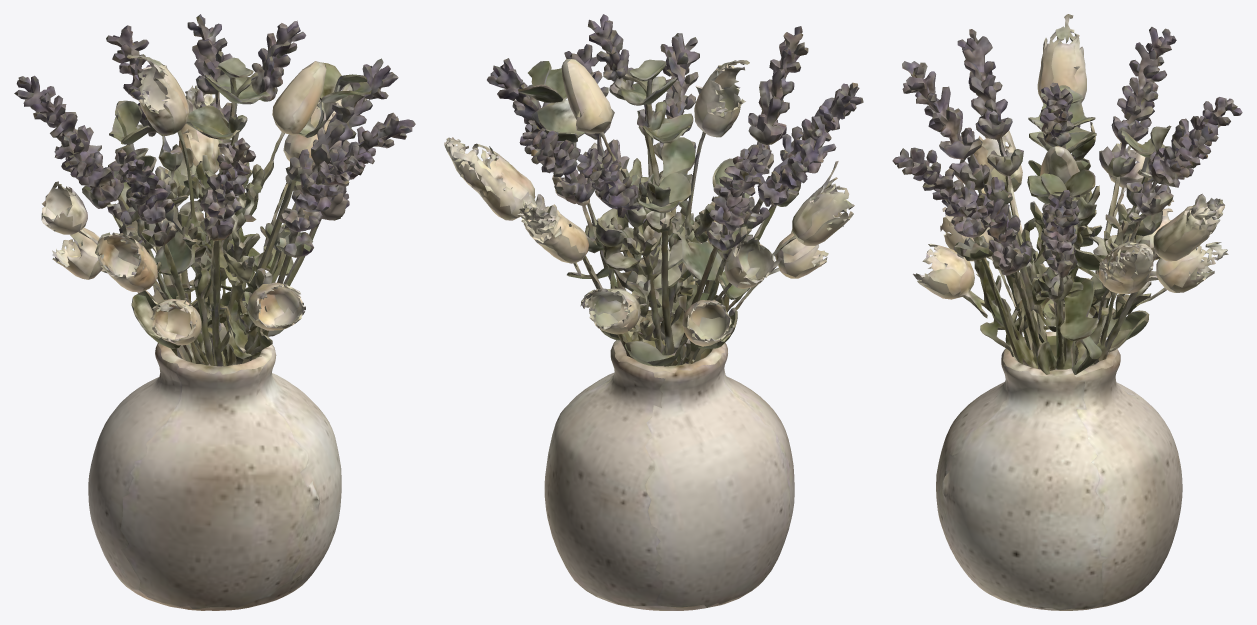
File: dried-bouquet.glb
3 views of the same model, side by side, from view 1: azimuth 30°, elevation 25°; view 2: azimuth 150°, elevation 25°; view 3: azimuth 270°, elevation 25° (orthographic). The views are drawn at different scales.
Parts seen in each view (by area): view 1: geometry_0; view 2: geometry_0; view 3: geometry_0.
Boxes of the visible parts, x1,y1,x2,y2 form: geometry_0: [14, 14, 415, 610]; geometry_0: [444, 14, 863, 610]; geometry_0: [892, 14, 1242, 610].
Size of the model in its own units: 0.1019 by 0.15 by 0.0912.
1 material, 1 textured.
